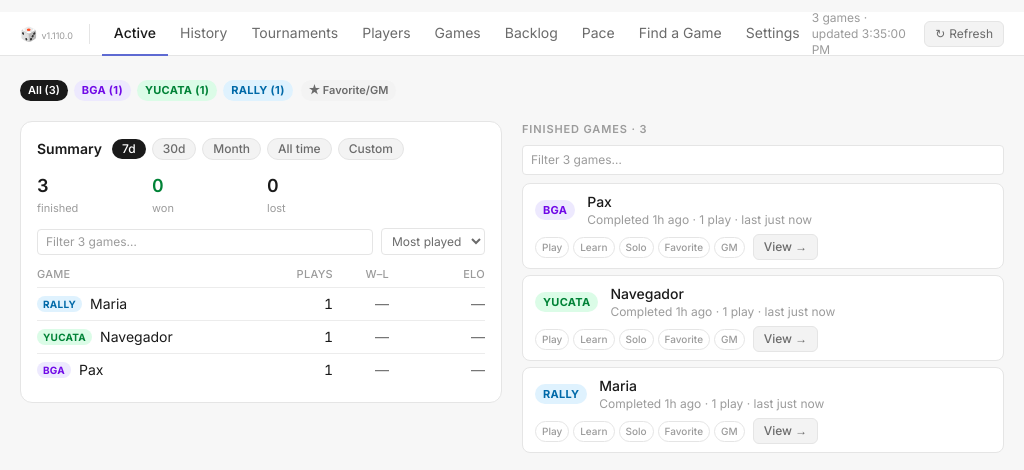
Test: OverviewPage finished-games search › shows a "no games match" message for a search with no hits, not the generic empty state
In the field named "Filter finished games": (763, 160) [522, 145, 1004, 175], type "zzz-no-match"
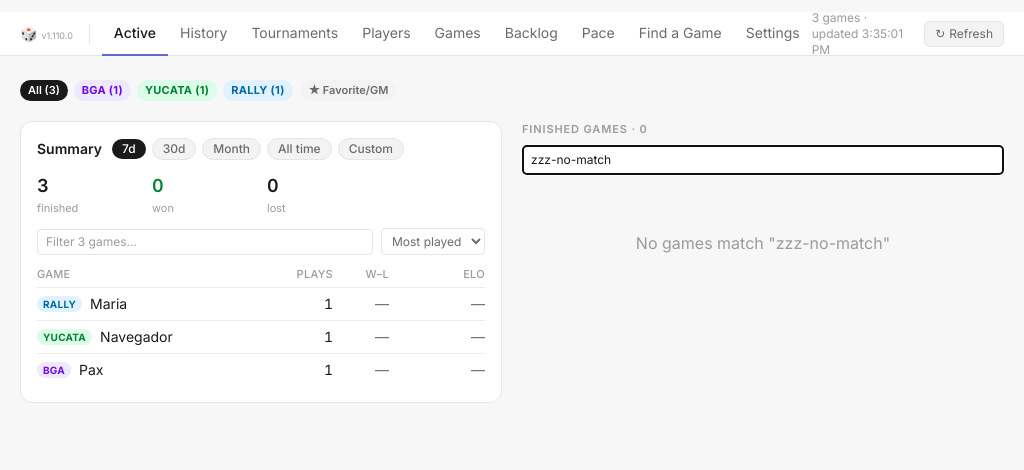
Check: the text "No games match \"zzz-no-match\"" is shown, box [636, 233, 890, 253]
